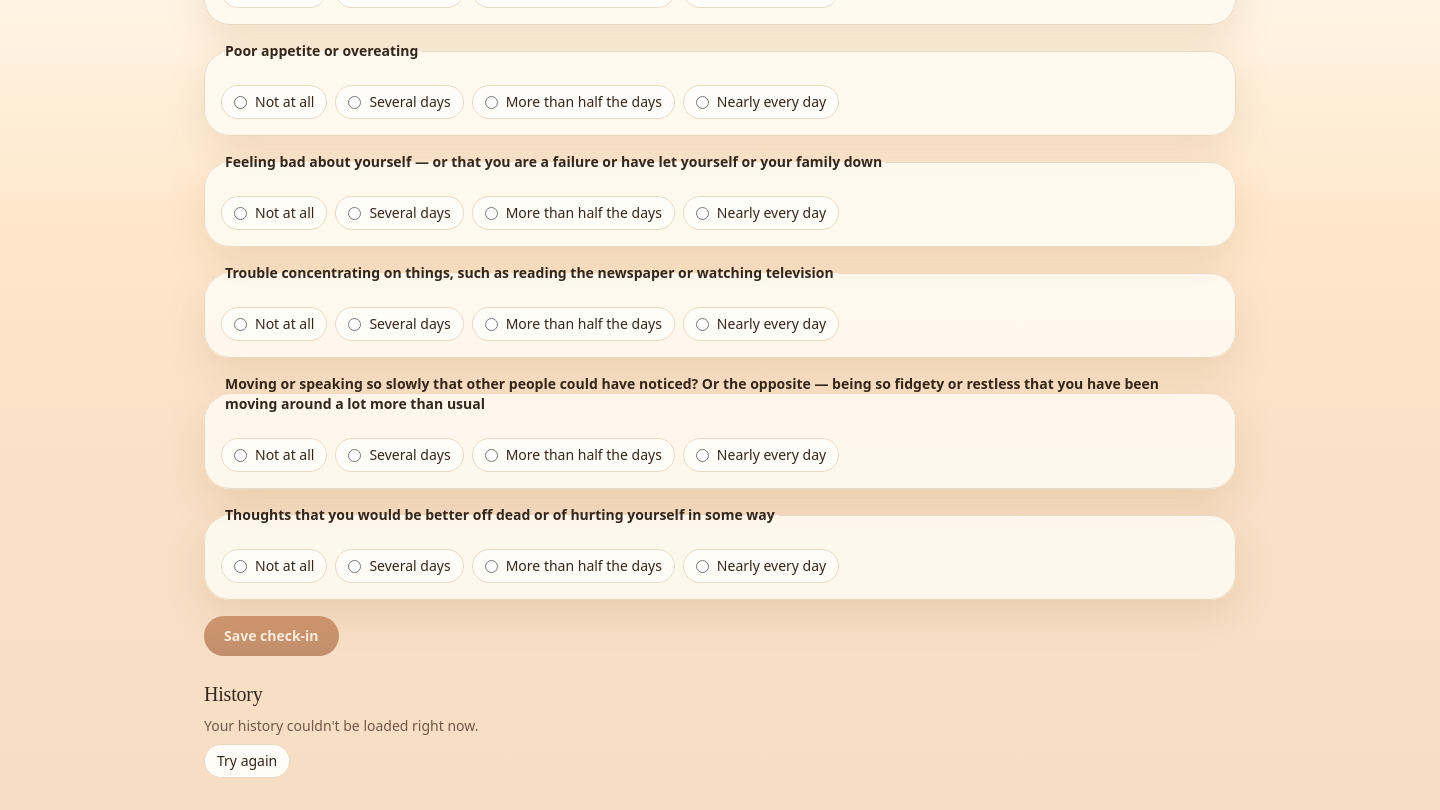
it: CheckInsPage — instruments and status bar › shows an honest history failure (status + chart) and recovers on retry
(page scrolled)
Check: the text "Your history couldn't be loaded right now." is shown, box top-left (204, 716), bottom-right (478, 736)
What coordinates should you click on to do the following:
click the button "Try again"
I would click on:
 (247, 761)
Its box is top-left (204, 744), bottom-right (290, 778).
(page scrolled)
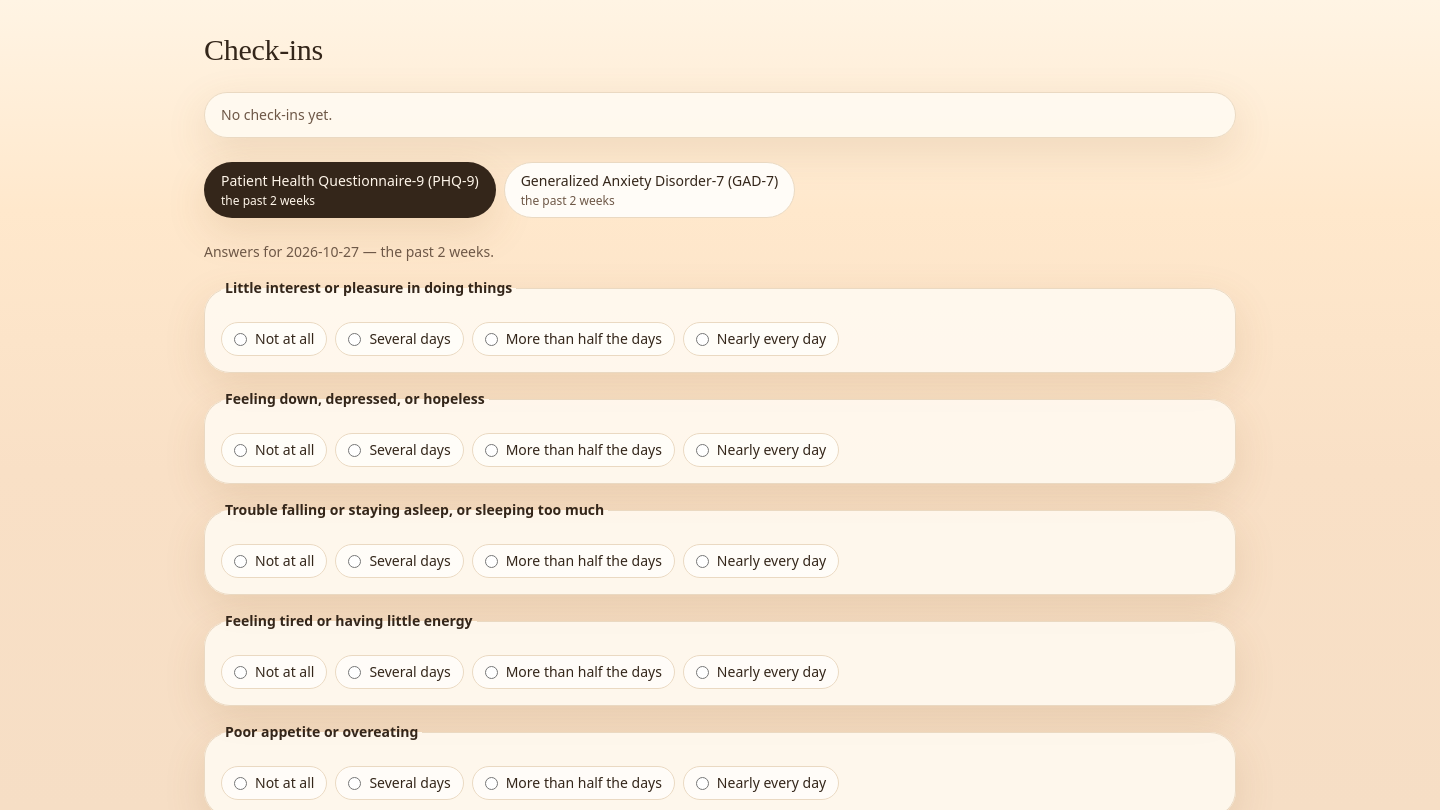
Check: the element named "Dashboard status" reads "No check-ins yet.", box top-left (221, 105), bottom-right (332, 124)
